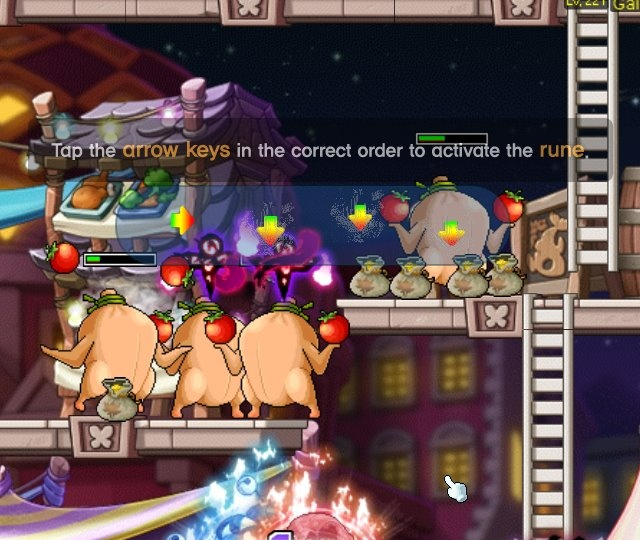rune_box: (107, 177, 523, 272)
